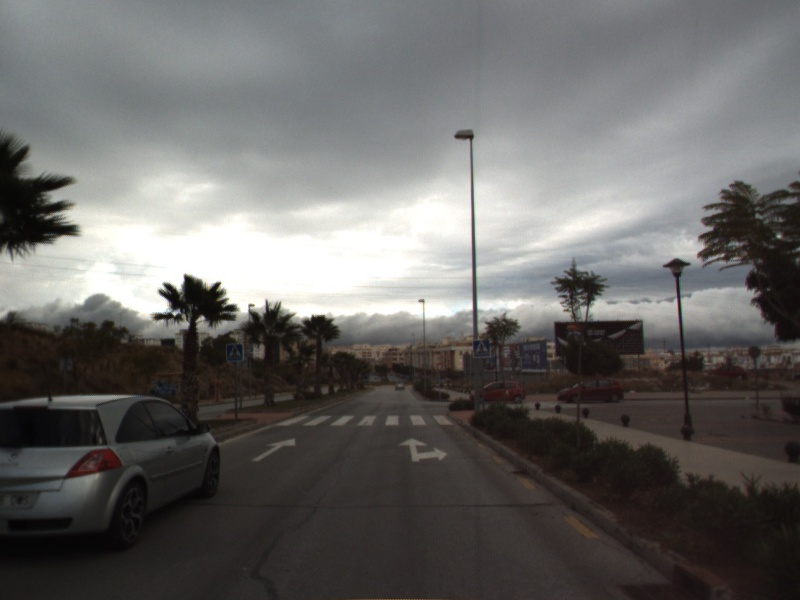STRAIGHT: (249, 436, 297, 463)
STRAIGHT_RIGHT: (396, 436, 449, 464)
